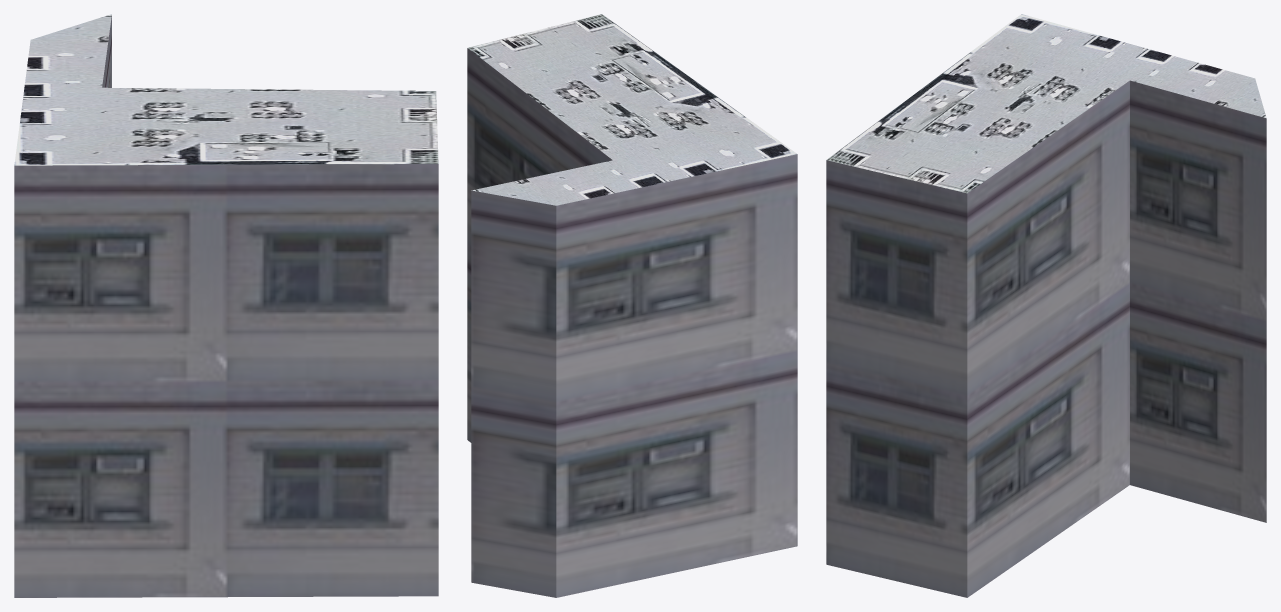
File: ResTex__3413.fbx
3 views of the same model, side by side, from view 1: azimuth 30°, elevation 25°; view 2: azimuth 150°, elevation 25°; view 3: azimuth 270°, elevation 25° (orthographic). The views are drawn at different scales.
Visible parts, largest first — view 1: CityEngineMaterial_1_m, CityEngineMaterial_4_m; view 2: CityEngineMaterial_1_m, CityEngineMaterial_4_m; view 3: CityEngineMaterial_1_m, CityEngineMaterial_4_m.
Part boxes in pixels (left/top/right/bottom): CityEngineMaterial_1_m: left=14, top=15, right=438, bottom=597; CityEngineMaterial_4_m: left=14, top=14, right=438, bottom=165; CityEngineMaterial_1_m: left=467, top=48, right=797, bottom=597; CityEngineMaterial_4_m: left=468, top=14, right=796, bottom=205; CityEngineMaterial_1_m: left=826, top=80, right=1266, bottom=597; CityEngineMaterial_4_m: left=827, top=14, right=1266, bottom=193.
Size of the model in its own units: 5.71 by 6 by 5.92.
Materials: 2 (2 with a texture image).
